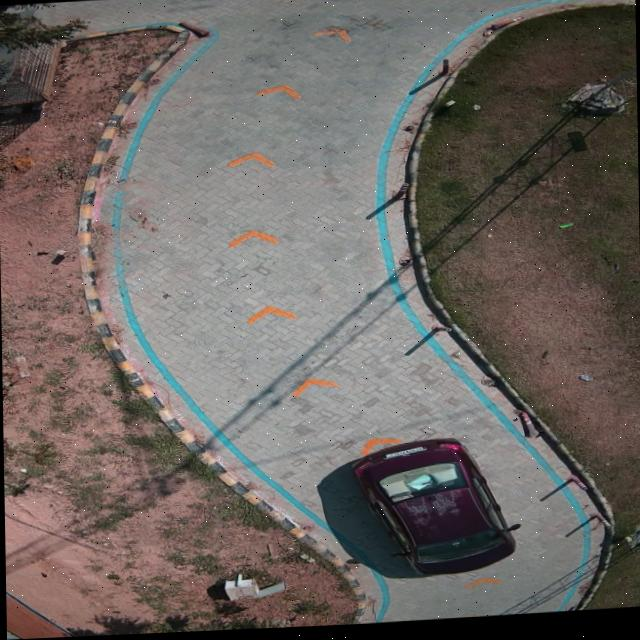car: (353, 442, 517, 579)
